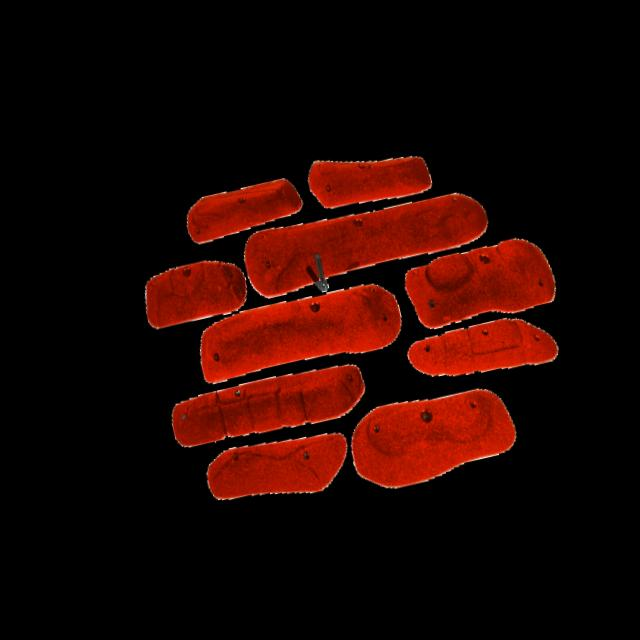Hold: (238, 178, 498, 309), (187, 273, 409, 387), (154, 345, 366, 458), (347, 375, 522, 500), (398, 228, 571, 338), (194, 414, 358, 526), (402, 303, 565, 391), (300, 124, 439, 220), (176, 156, 308, 248), (125, 244, 252, 334)
